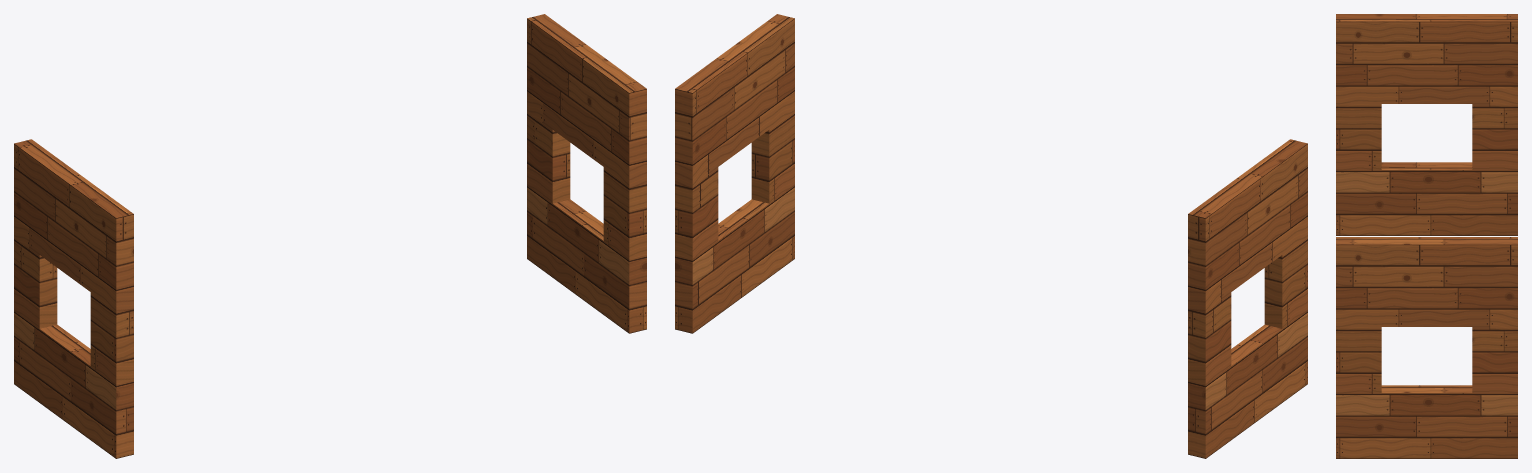
The model's file is MIDDLE_CENTRE_GUN.glb.
3 renders of one model, left to right at view 1: azimuth 30°, elevation 25°; view 2: azimuth 150°, elevation 25°; view 3: azimuth 270°, elevation 25°, orthographic. The views are drawn at different scales.
Parts seen in each view (by area): view 1: MIDDLE_CENTRE_GUN; view 2: MIDDLE_CENTRE_GUN; view 3: MIDDLE_CENTRE_GUN.
Part boxes in pixels (left/top/right/bottom): MIDDLE_CENTRE_GUN: left=14, top=14, right=646, bottom=458; MIDDLE_CENTRE_GUN: left=675, top=14, right=1307, bottom=458; MIDDLE_CENTRE_GUN: left=1336, top=14, right=1517, bottom=458.
Bounding box in the file's own units: 6 × 2.6 × 2.
Materials: 1 (1 with a texture image).
